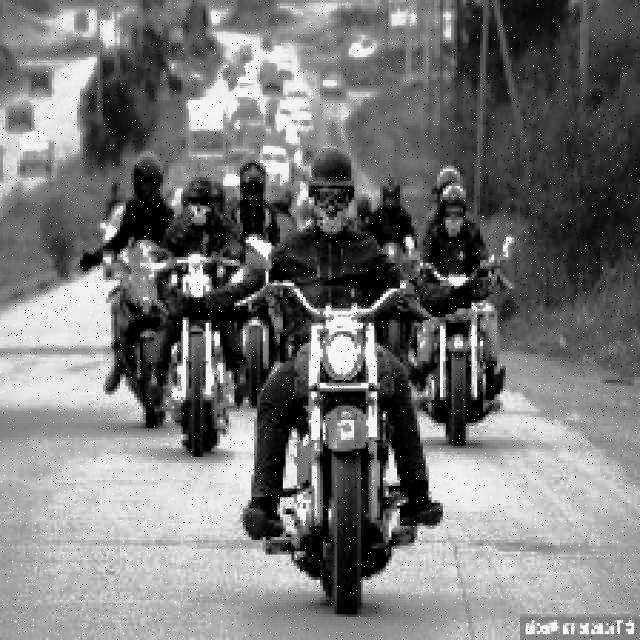Bike: (282, 280, 416, 602), (162, 251, 234, 455), (424, 258, 494, 434)
